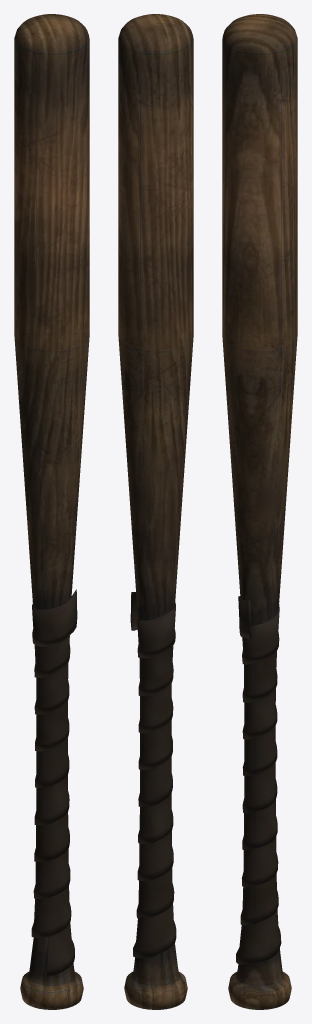
The model's file is baseball_bat.bf121bbc.glb.
3 views of the same model, side by side, from view 1: azimuth 30°, elevation 25°; view 2: azimuth 210°, elevation 25°; view 3: azimuth 270°, elevation 25° (orthographic).
Visible parts, largest first — view 1: baseball_bat; view 2: baseball_bat; view 3: baseball_bat.
Part boxes in pixels (box(x1,y1,x2,y2)): baseball_bat: box(14, 14, 89, 1009); baseball_bat: box(118, 14, 193, 1009); baseball_bat: box(222, 14, 297, 1009).
Bounding box in the file's own units: 0.0696 × 1 × 0.0696.
Materials: 1 (1 with a texture image).
